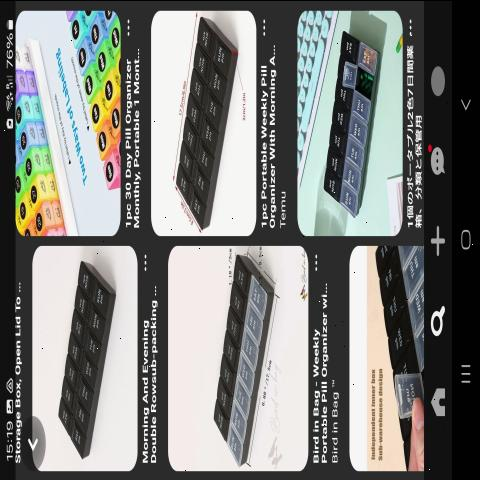PillBox: (160, 18, 246, 222), (207, 247, 285, 467), (312, 18, 388, 220), (52, 255, 120, 460)
